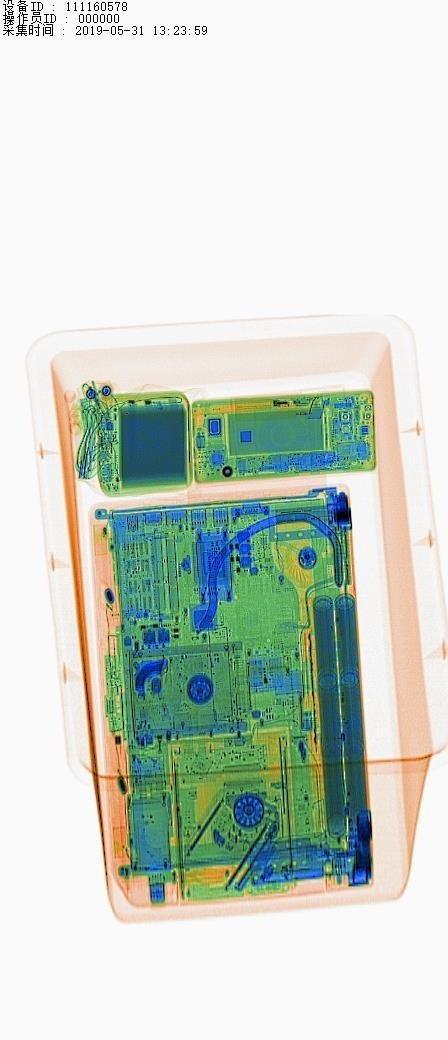NonmetallicFire: (232, 386, 338, 424)
